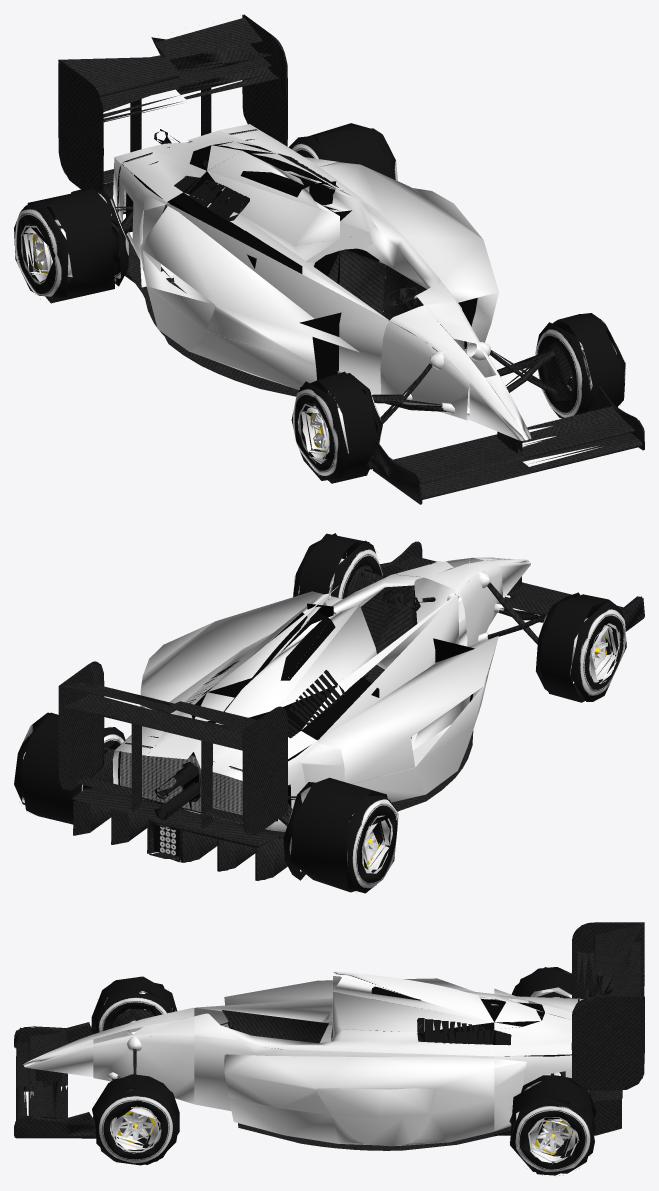
The model's file is car_classic_lo.glb.
The picture shows the model from 3 angles, top to bottom: view 1: azimuth 30°, elevation 25°; view 2: azimuth 150°, elevation 25°; view 3: azimuth 270°, elevation 25°; orthographic projection. The views are drawn at different scales.
Visible parts, largest first — view 1: door.R, door.L, roof, WheelRearR, nose.R, WheelFrontR, deck, WheelFrontL, nose.L, fender.R, bonnet, quarter.R (+5 smaller); view 2: door.R, roof, door.L, WheelRearR, WheelFrontR, tail.R, tail.L, quarter.R, WheelRearL, quarter.L, deck, WheelFrontL (+5 smaller); view 3: door.L, roof, door.R, WheelRearL, WheelFrontL, nose.L, fender.L, deck, quarter.L, tail.L, WheelFrontR, nose.R (+3 smaller).
Boxes of the visible parts, x1,y1,x2,y2 form: door.R: [58, 59, 402, 396]; door.L: [242, 14, 498, 354]; roof: [59, 17, 375, 245]; WheelRearR: [14, 188, 128, 303]; nose.R: [366, 378, 531, 504]; WheelFrontR: [291, 371, 382, 483]; deck: [99, 73, 316, 289]; WheelFrontL: [535, 313, 625, 418]; nose.L: [485, 358, 644, 472]; fender.R: [372, 321, 470, 423]; bonnet: [354, 302, 555, 421]; quarter.R: [88, 146, 201, 293]; door.R: [242, 586, 498, 814]; roof: [63, 586, 375, 750]; door.L: [58, 574, 423, 750]; WheelRearR: [283, 777, 398, 893]; WheelFrontR: [536, 592, 626, 702]; tail.R: [161, 713, 275, 880]; tail.L: [58, 683, 180, 858]; quarter.R: [183, 717, 344, 876]; WheelRearL: [14, 712, 125, 824]; quarter.L: [90, 706, 215, 841]; deck: [87, 693, 317, 836]; WheelFrontL: [293, 533, 383, 598]; door.L: [194, 996, 644, 1150]; roof: [332, 923, 643, 1033]; door.R: [194, 922, 644, 1049]; WheelRearL: [509, 1075, 596, 1175]; WheelFrontL: [89, 1074, 179, 1165]; nose.L: [14, 1039, 95, 1138]; fender.L: [93, 1035, 194, 1103]; deck: [494, 935, 595, 1133]; quarter.L: [494, 1050, 595, 1136]; tail.L: [595, 960, 644, 1135]; WheelFrontR: [91, 976, 177, 1033]; nose.R: [14, 1022, 93, 1091].
Bounding box in the file's own units: 2.81 × 1.43 × 5.4.
Materials: 10 (4 with a texture image).
